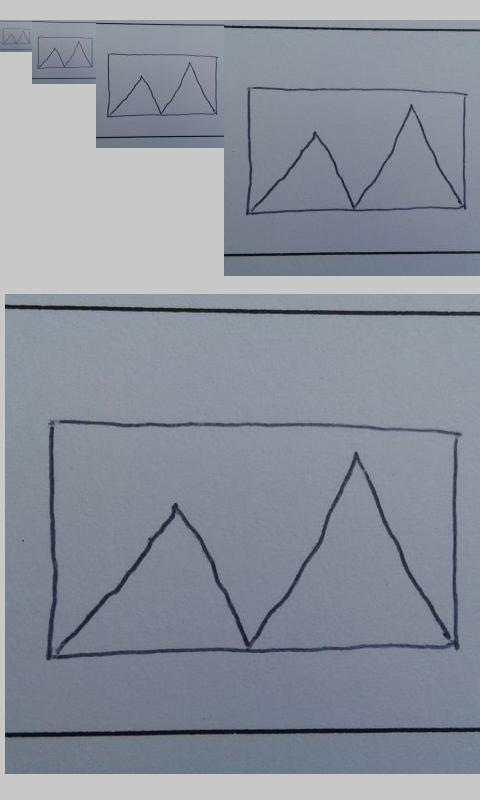image_view: (42, 413, 464, 666), (246, 84, 468, 216), (106, 52, 219, 119), (37, 36, 94, 70), (2, 27, 31, 45)
